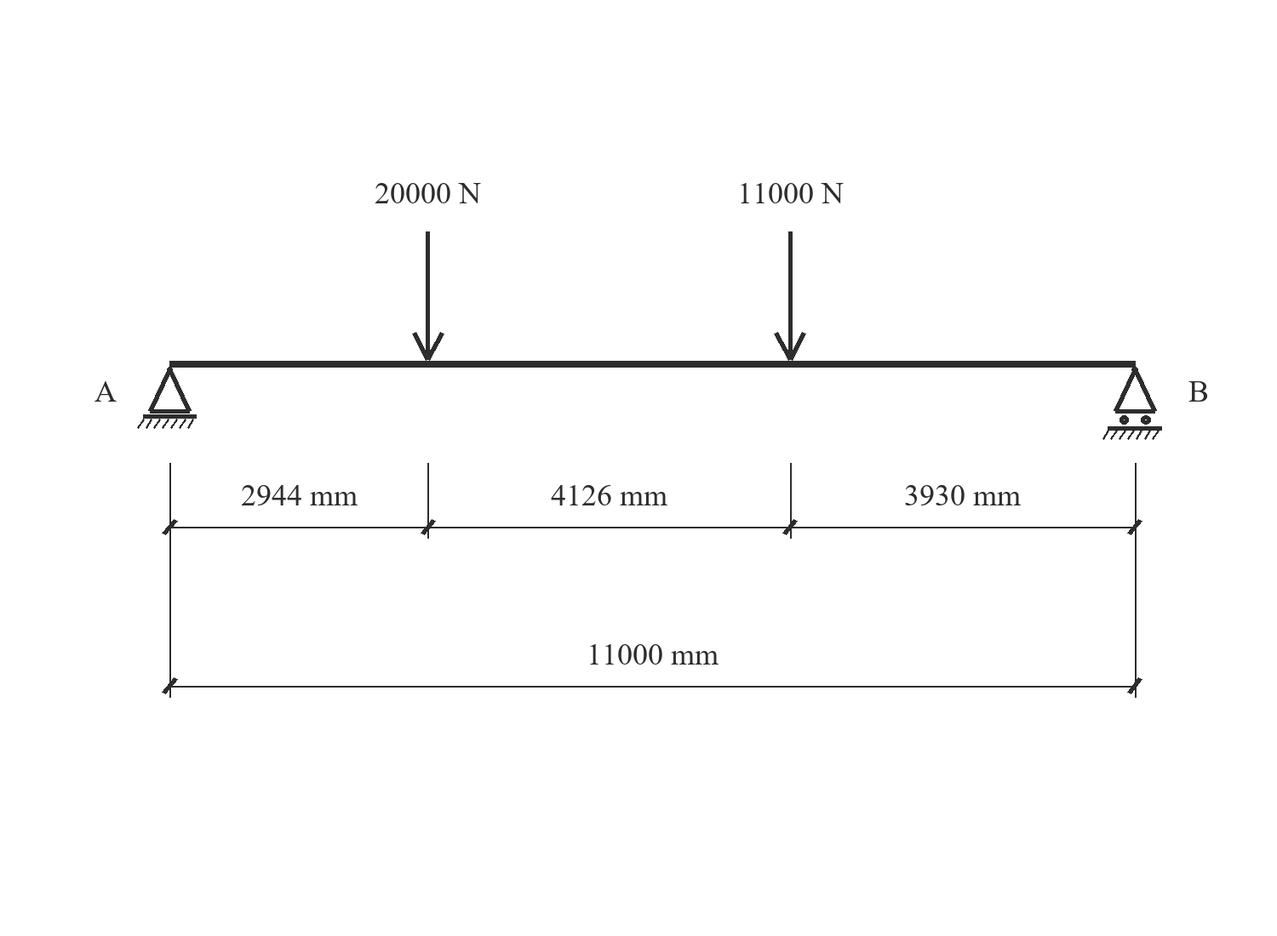pin_support: (137, 367, 197, 429)
point_load: (412, 231, 444, 361), (774, 231, 806, 361)
roller_support: (1102, 367, 1162, 440)
